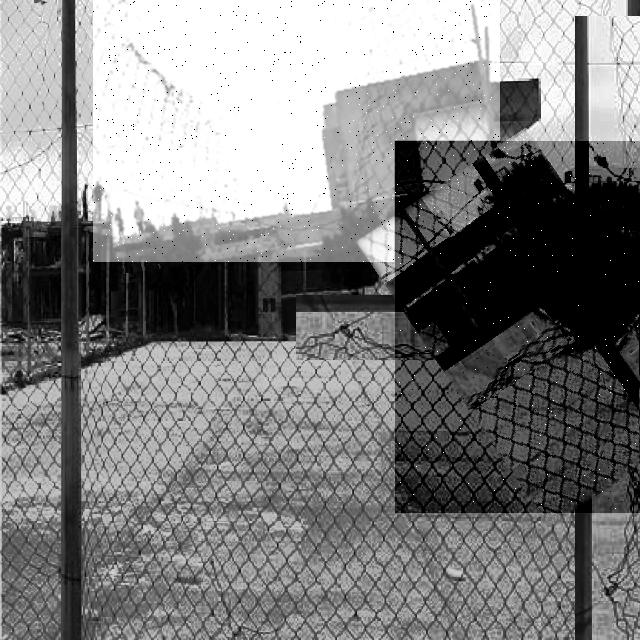anomaly-fence: (93, 0, 500, 262), (395, 141, 640, 513)
